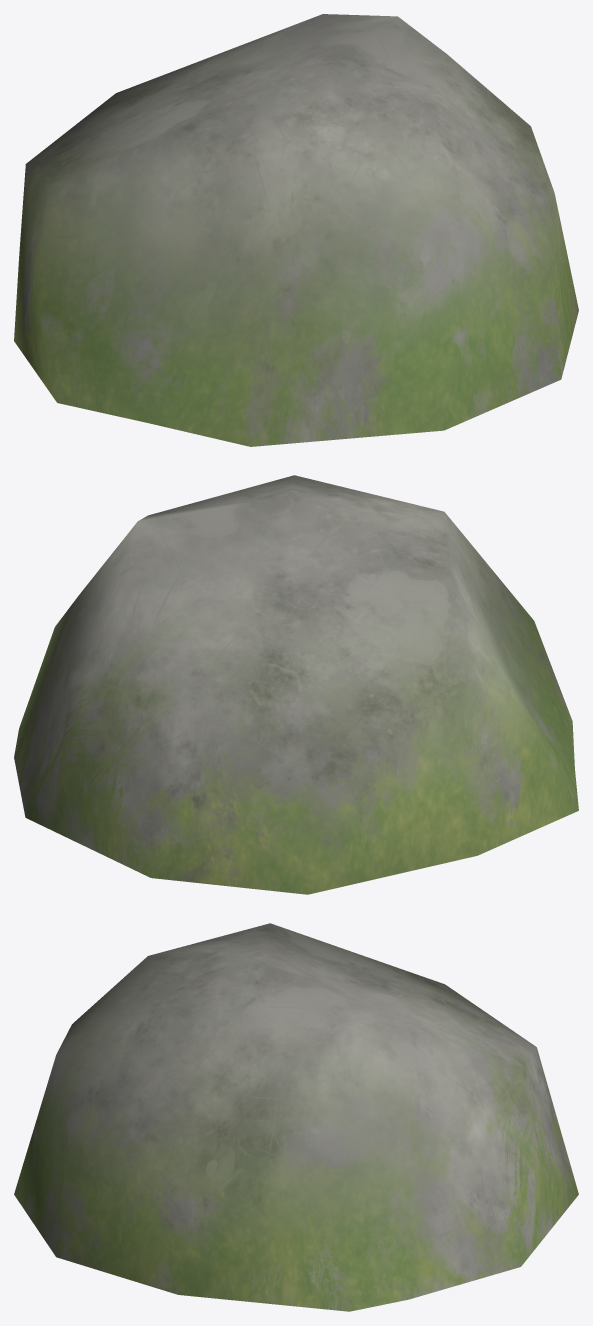
File: boulder_rounded-mossy_medium.fbx
The picture shows the model from 3 angles, top to bottom: view 1: azimuth 30°, elevation 25°; view 2: azimuth 150°, elevation 25°; view 3: azimuth 270°, elevation 25°; orthographic projection. The views are drawn at different scales.
Parts seen in each view (by area): view 1: boulder_rounded_mossy_medium; view 2: boulder_rounded_mossy_medium; view 3: boulder_rounded_mossy_medium.
Part boxes in pixels (<box>): boulder_rounded_mossy_medium: <box>14,14,578,446</box>; boulder_rounded_mossy_medium: <box>14,475,578,894</box>; boulder_rounded_mossy_medium: <box>14,923,578,1311</box>.
Bounding box in the file's own units: 98.22 × 47.36 × 100.
